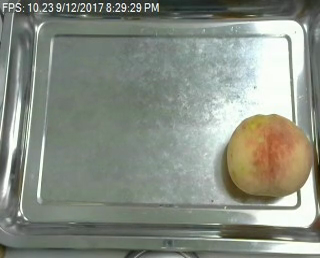Peach: (225, 113, 314, 197)
